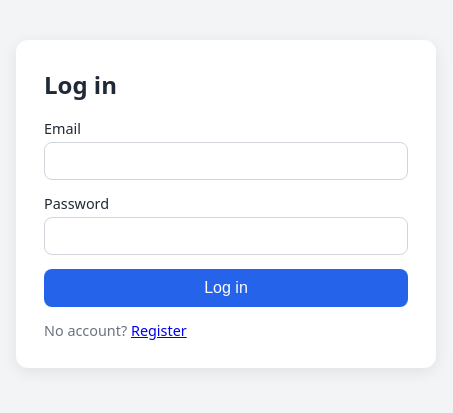
Test: Login page › shows the error returned by the server and stays on the page
Type "jonas@test.lt" into the field labelled "Email" at (226, 161), box [44,142,408,180]
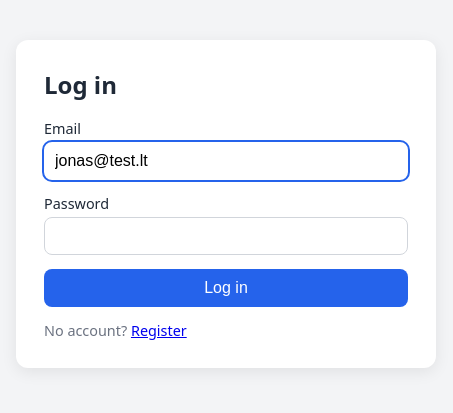
Type "wrong-password" into the password field labelled "Password" at (226, 236), box [44,217,408,255]
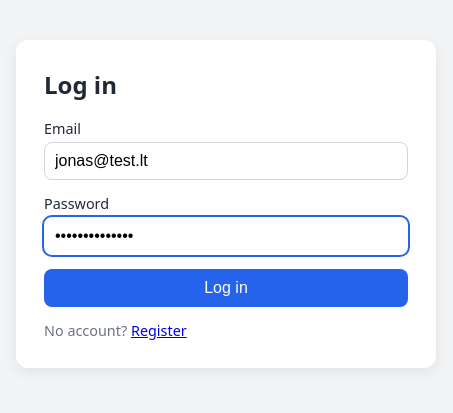
Click the button "Log in" at (226, 288), box [44,269,408,307]
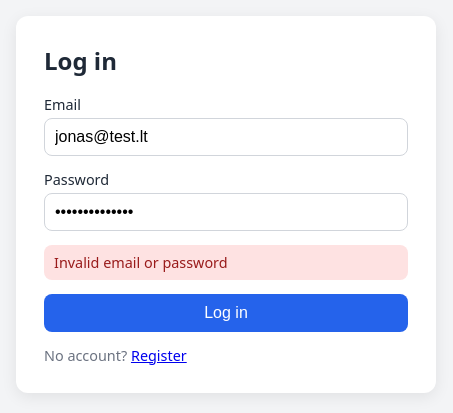
Now the text "Invalid email or password" is shown, box [44,244,408,280]
